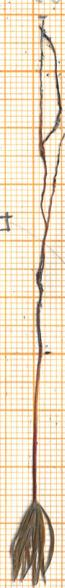flower: (3, 500, 65, 588)
root: (22, 15, 65, 352)
stem: (23, 352, 52, 499)
